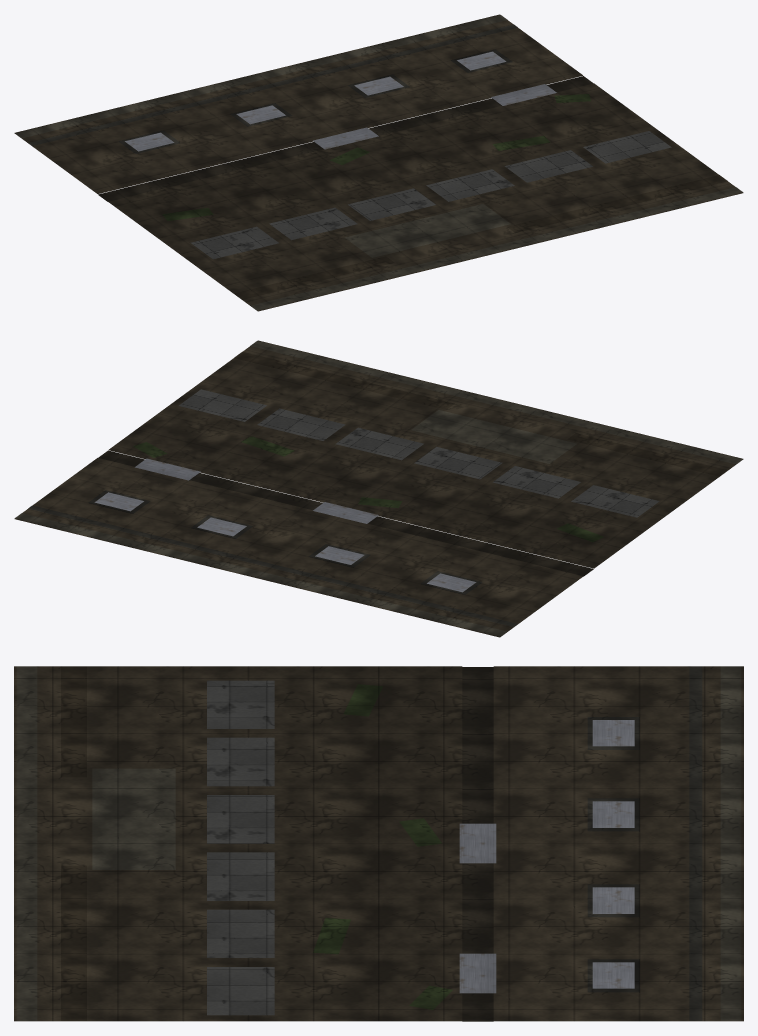
Rendered from utility_verge.glb.
The picture shows the model from 3 angles, top to bottom: view 1: azimuth 30°, elevation 25°; view 2: azimuth 150°, elevation 25°; view 3: azimuth 270°, elevation 25°; orthographic projection. The views are drawn at different scales.
Visible parts, largest first — view 1: utility_verge; view 2: utility_verge; view 3: utility_verge.
Part boxes in pixels (x1,y1,x2,y2): utility_verge: [14, 14, 743, 311]; utility_verge: [14, 340, 743, 637]; utility_verge: [14, 666, 743, 1021].
Size of the model in its own units: 16.1 by 0.023 by 14.
3 materials, 3 textured.
